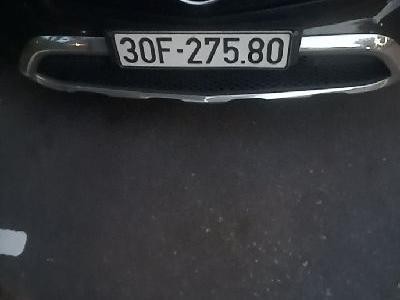number: (110, 27, 289, 72)
